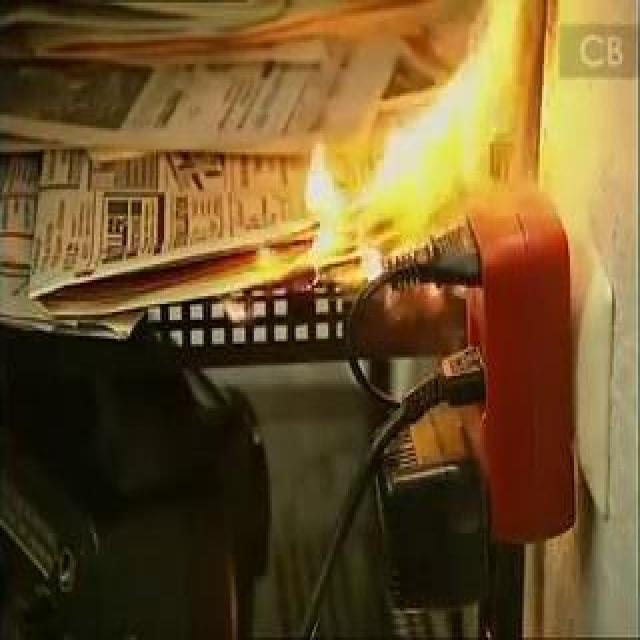Fire: (235, 3, 531, 312)
